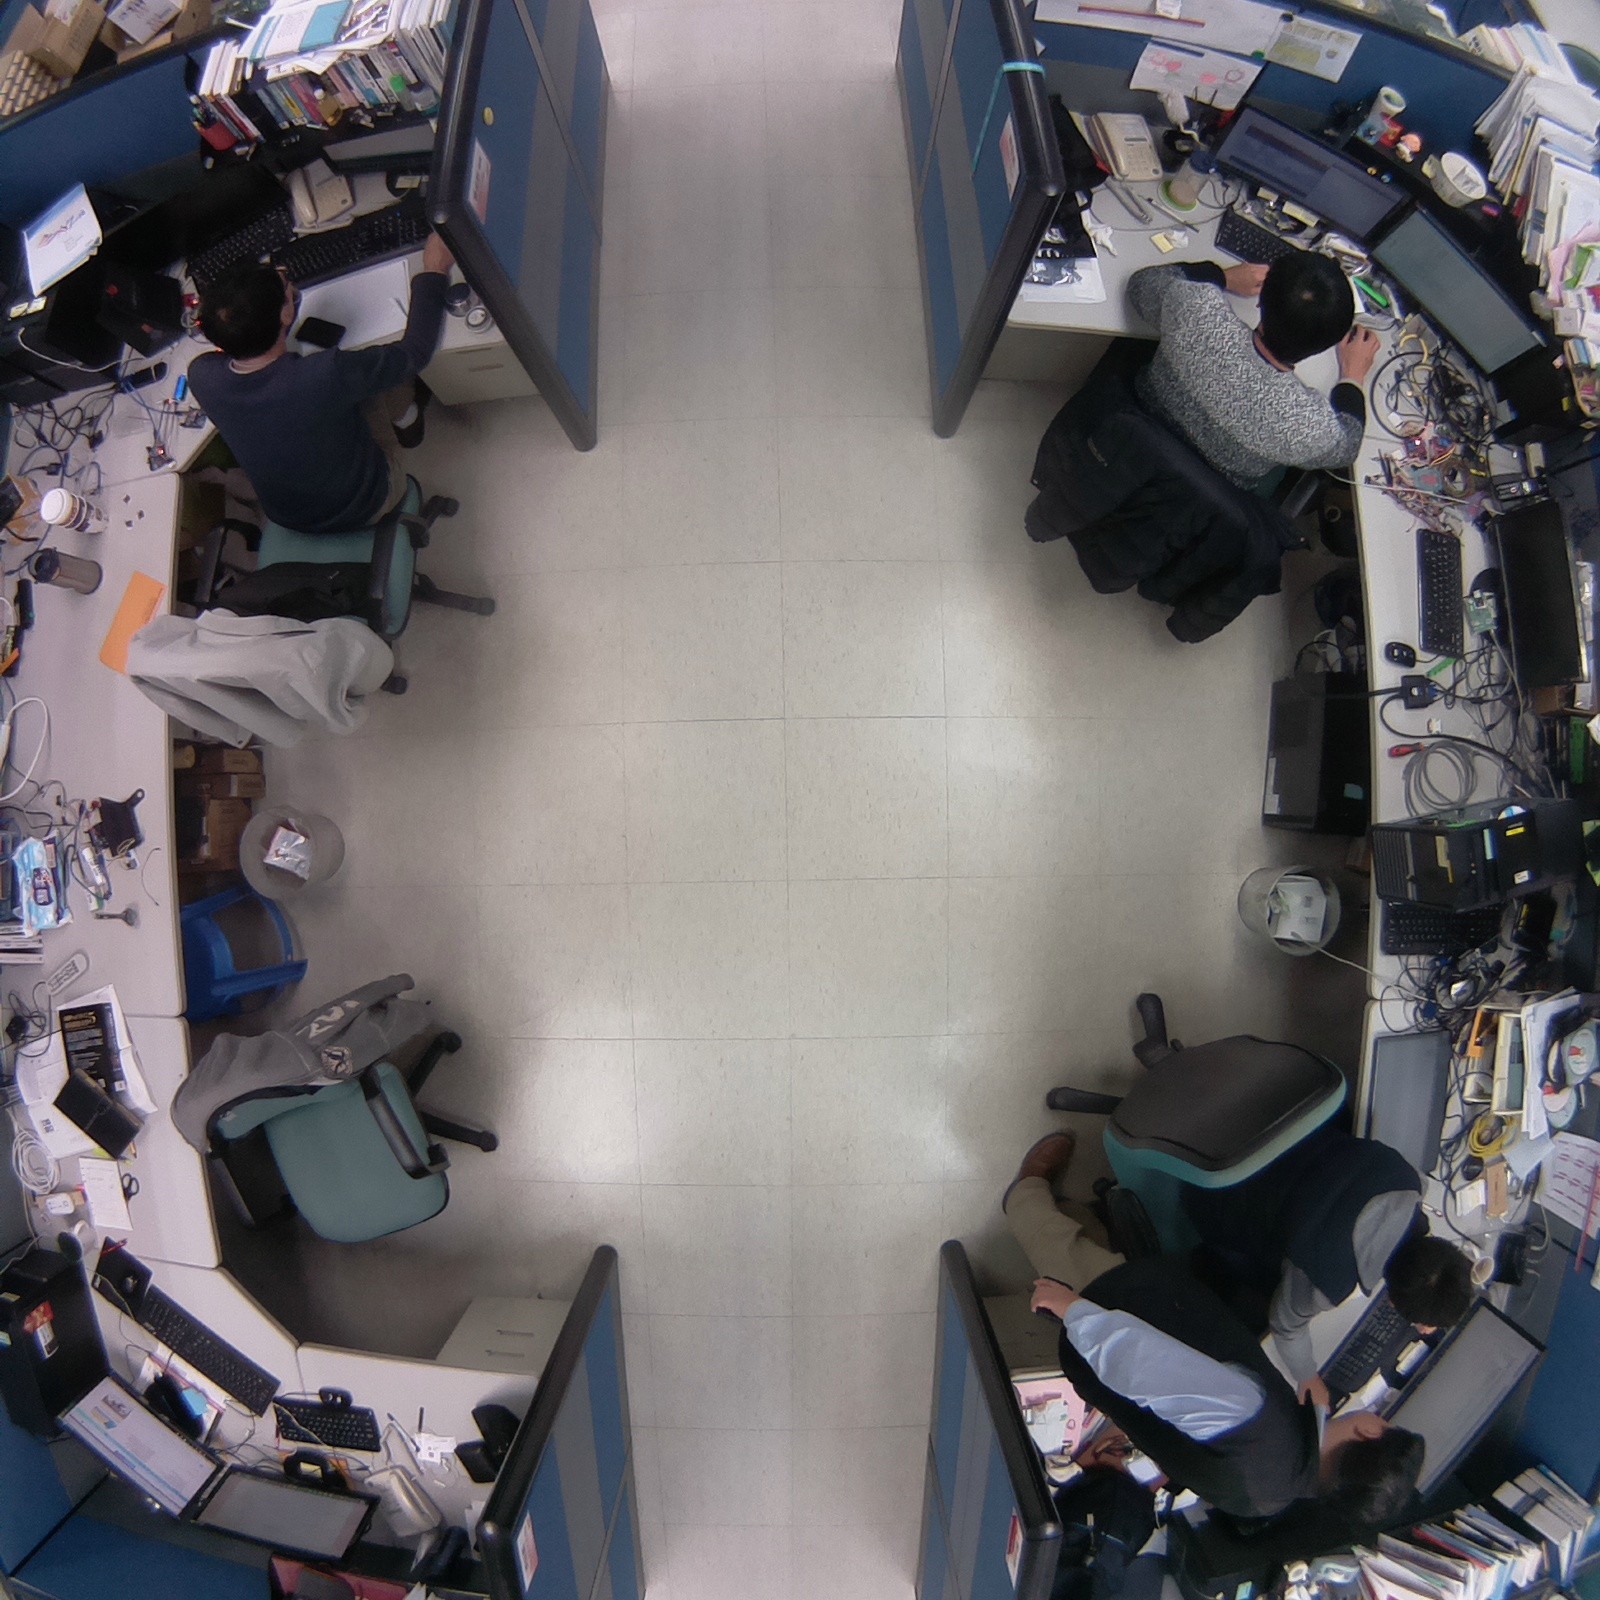chair: (160, 950, 509, 1263)
head: (1325, 1406, 1436, 1531), (189, 242, 304, 359), (1251, 248, 1361, 363), (1376, 1225, 1478, 1336)
sitting: (119, 241, 504, 775), (1019, 970, 1481, 1351), (1001, 231, 1391, 660)
standing: (979, 1111, 1431, 1544)
